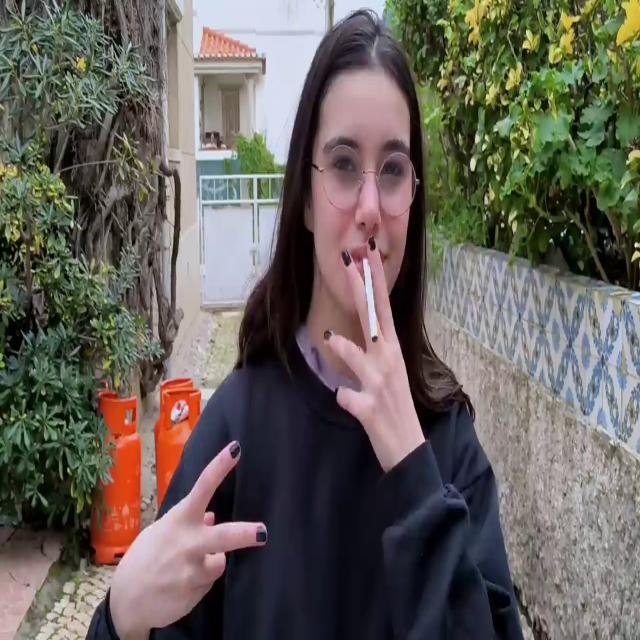Smooking: (357, 253, 386, 353)
